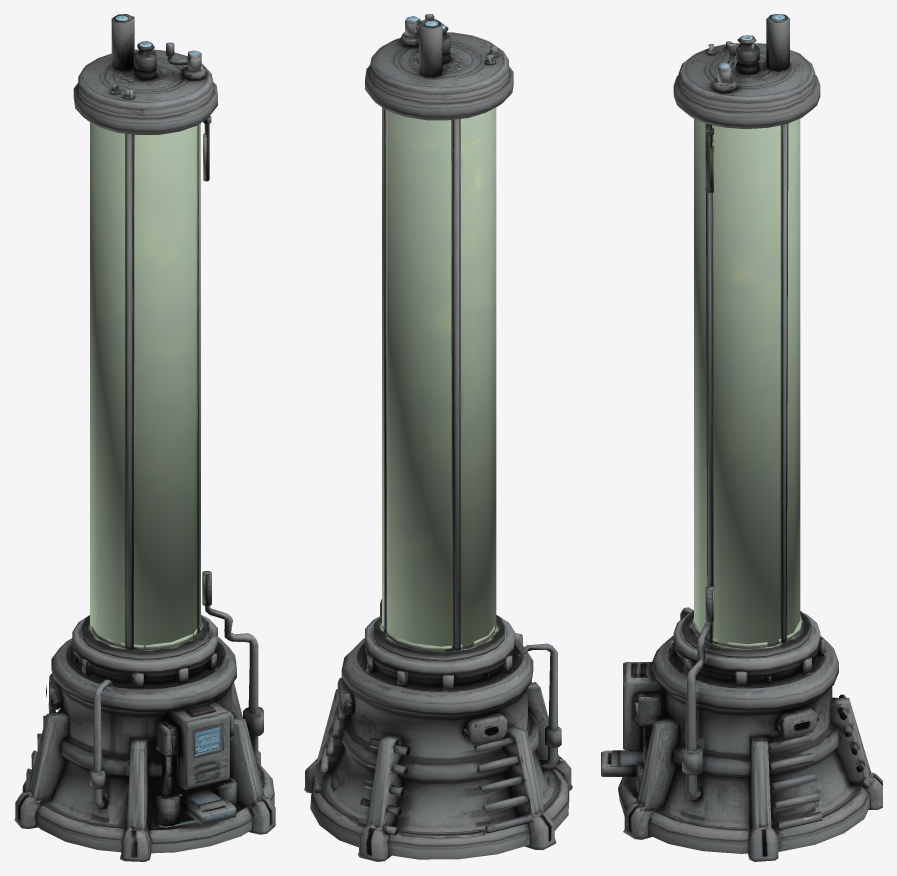
Rendered from 019e3e7f-fcb3-7d84-a855-5de5cec044f6.glb.
3 renders of one model, left to right at view 1: azimuth 30°, elevation 25°; view 2: azimuth 150°, elevation 25°; view 3: azimuth 270°, elevation 25°, orthographic. The views are drawn at different scales.
Visible parts, largest first — view 1: tripo_node_65c7d385-6e81-4c8d-94e8-b1f60d169492; view 2: tripo_node_65c7d385-6e81-4c8d-94e8-b1f60d169492; view 3: tripo_node_65c7d385-6e81-4c8d-94e8-b1f60d169492.
Part boxes in pixels (x1,y1,x2,y2): tripo_node_65c7d385-6e81-4c8d-94e8-b1f60d169492: (14,14,275,861); tripo_node_65c7d385-6e81-4c8d-94e8-b1f60d169492: (304,14,572,861); tripo_node_65c7d385-6e81-4c8d-94e8-b1f60d169492: (601,14,882,861).
Size of the model in its own units: 0.3223 by 0.998 by 0.3262.
Materials: 1 (1 with a texture image).
